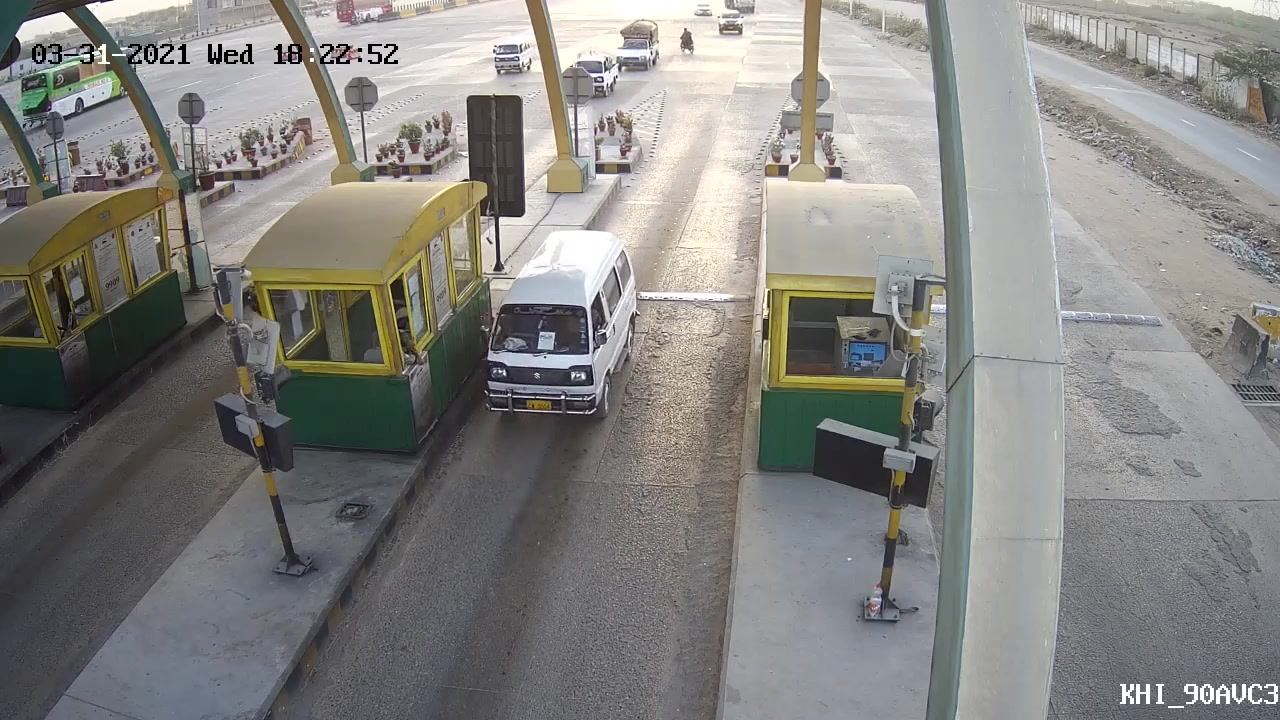F2: (473, 220, 641, 432)
